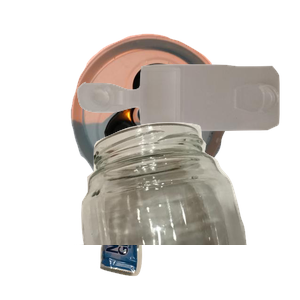glass: (74, 120, 300, 300)
metal: (68, 31, 288, 211)
plastic: (75, 62, 300, 186)
trash: (97, 152, 248, 300)
